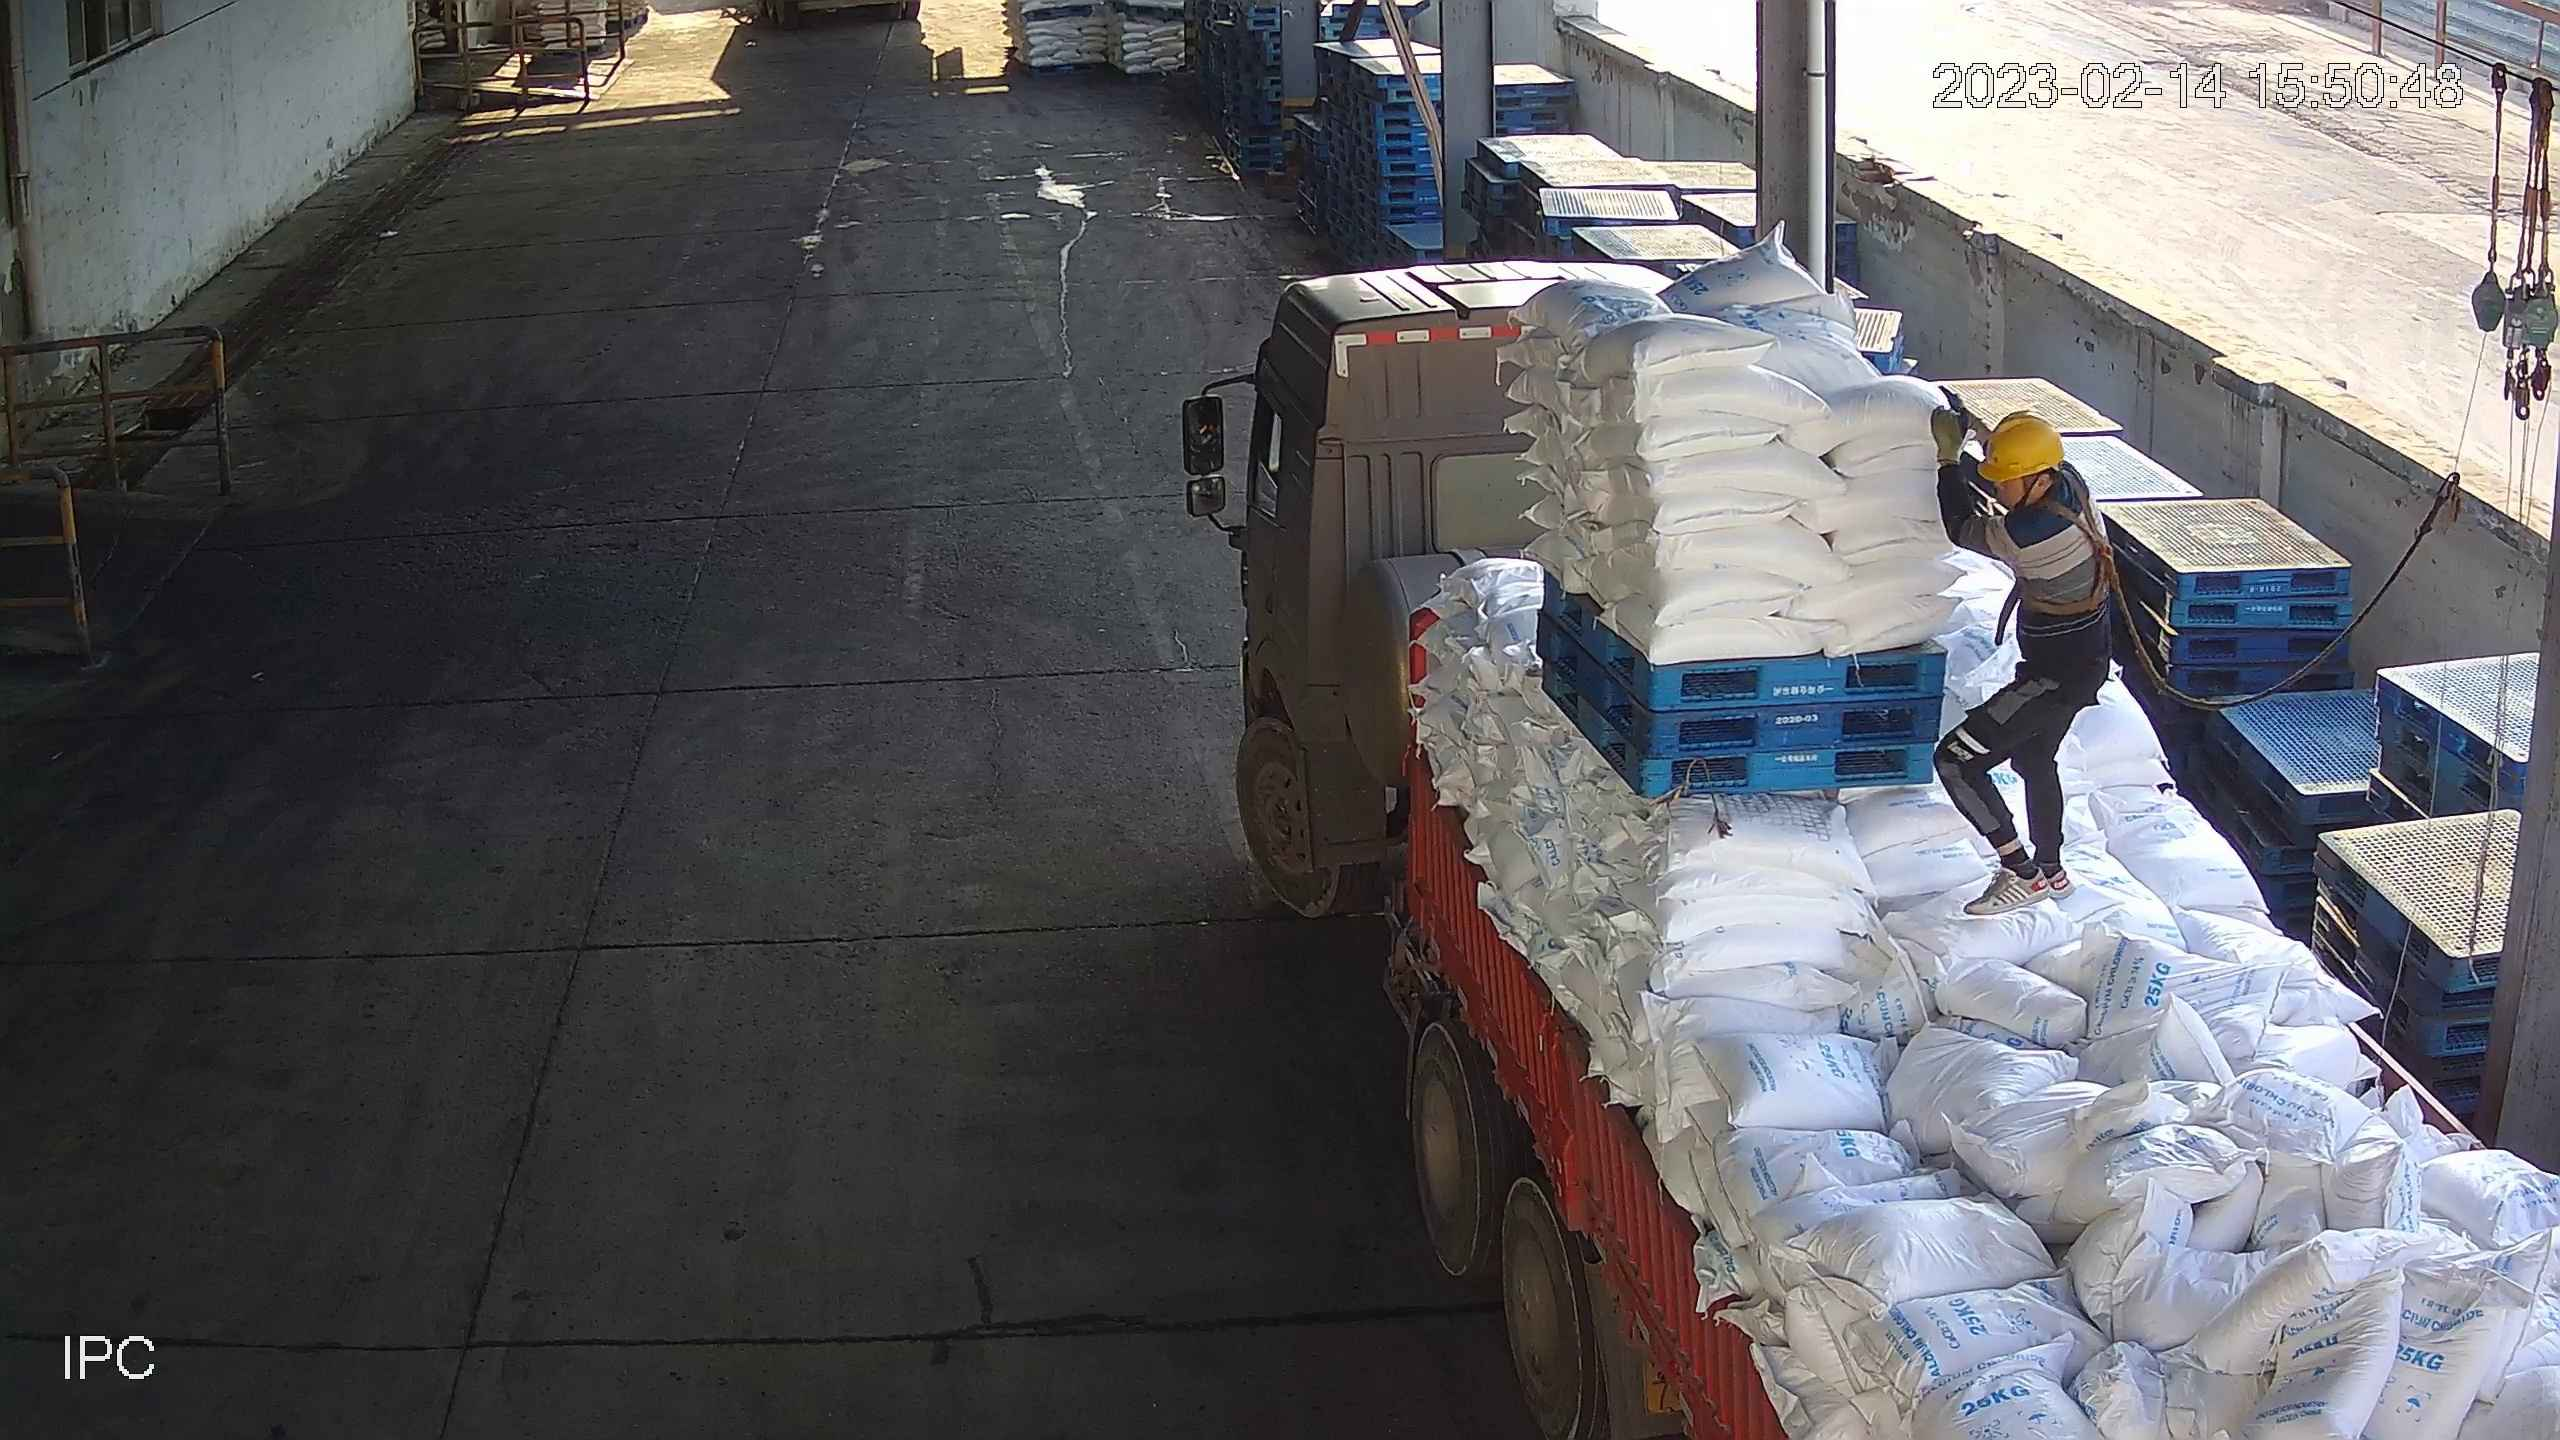belt: (2011, 469, 2125, 618)
head: (1965, 408, 2112, 545)
helmet: (1975, 409, 2065, 483)
people: (1929, 405, 2113, 917)
truck: (1229, 257, 2560, 1440)
